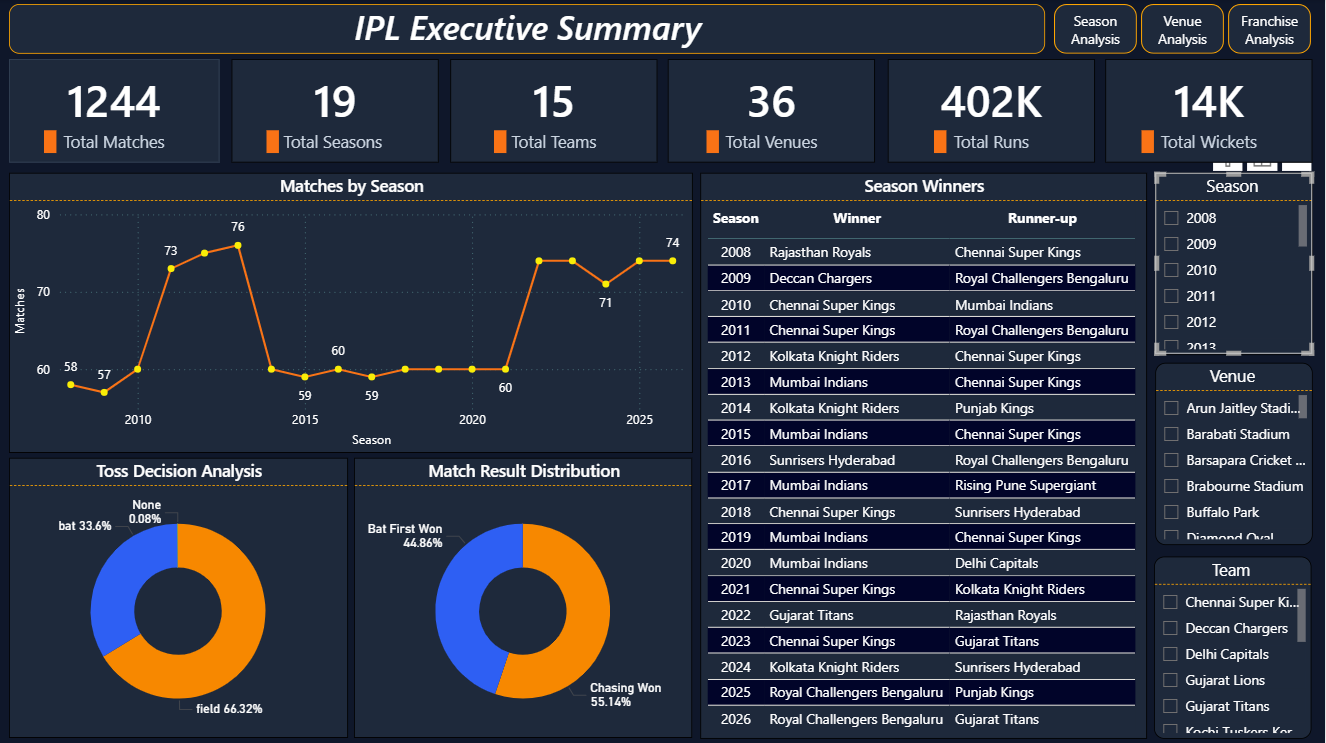

What the dashboard file says about the page in this screenshot:
{"tool":"powerbi","page":{"name":"Overview","canvas":[1280,720],"ordinal":0},"visuals":[{"type":"lineChart","title":"Matches by Season","fields":{"Category":["ipl_data.season"],"Y":["CountNonNull(ipl_data.match_id)"]},"box":[9.6,167.4,660,270.3],"z":0},{"type":"tableEx","title":"Season Winners ","fields":{"Values":["dim_season_stats.season","dim_season_stats.season_winner","dim_season_stats.runner-up"]},"box":[676.5,167.4,430.9,546.1],"z":1000},{"type":"donutChart","title":"Toss Decision Analysis","fields":{"Y":["ipl_data.Total Matches"],"Category":["ipl_data.toss_decision"]},"box":[9.6,443.2,327,270.3],"z":2000},{"type":"donutChart","title":"Match Result Distribution","fields":{"Category":["ipl_data.Result Type"],"Y":["ipl_data.Total Matches"]},"box":[343.1,443.2,326.6,270.3],"z":3000},{"type":"slicer","title":"Season","fields":{"Values":["dim_season_stats.season"]},"box":[1115.6,167.4,152.3,175.6],"z":4000},{"type":"slicer","title":"Venue","fields":{"Values":["ipl_data.venue"]},"box":[1115.6,351,152.3,175.6],"z":5000},{"type":"slicer","title":"Team","fields":{"Values":["team_performance_analysis.team"]},"box":[1115,538,152.3,175.6],"z":6000},{"type":"card","fields":{"Values":["ipl_data.Total Matches"]},"box":[10,58,203,100.2],"z":7000},{"type":"card","fields":{"Values":["ipl_data.Total Seasons"]},"box":[224,58,200.3,100.2],"z":8000},{"type":"card","fields":{"Values":["ipl_data.Total Teams"]},"box":[435,58,200.3,100.2],"z":9000},{"type":"card","fields":{"Values":["ipl_data.Total Venues"]},"box":[646,58,200.3,100.2],"z":10000},{"type":"card","fields":{"Values":["ipl_data.Total Runs"]},"box":[858,58,200.3,100.2],"z":11000},{"type":"card","fields":{"Values":["ipl_data.Total Wickets"]},"box":[1067.6,58,200.3,100.2],"z":12000},{"type":"textbox","title":"IPL Executive Summary","box":[9.7,4.8,1000.1,48.3],"z":13000},{"type":"shape","box":[43.4,127,12.1,22],"z":14000},{"type":"shape","box":[258,127,12.1,22],"z":15000},{"type":"shape","box":[478,127,12.1,22],"z":16000},{"type":"shape","box":[683,127,12.1,22],"z":17000},{"type":"shape","box":[902,127,12.1,22],"z":18000},{"type":"shape","box":[1103,127,12.1,22],"z":19000},{"type":"pageNavigator","box":[1018.2,4.8,249.7,48.3],"z":20000}]}

Visuals, with their boxes in screenshot pixels (x1, y1, x2, y2), scaled from the page's 1280x720 canvas onto the 1326x743 screenshot:
"Matches by Season" lineChart: {"left": 10, "top": 173, "right": 694, "bottom": 452}
"Season Winners " tableEx: {"left": 701, "top": 173, "right": 1147, "bottom": 736}
"Toss Decision Analysis" donutChart: {"left": 10, "top": 457, "right": 349, "bottom": 736}
"Match Result Distribution" donutChart: {"left": 355, "top": 457, "right": 694, "bottom": 736}
"Season" slicer: {"left": 1156, "top": 173, "right": 1313, "bottom": 354}
"Venue" slicer: {"left": 1156, "top": 362, "right": 1313, "bottom": 543}
"Team" slicer: {"left": 1155, "top": 555, "right": 1313, "bottom": 736}
card - ipl_data.Total Matches: {"left": 10, "top": 60, "right": 221, "bottom": 163}
card - ipl_data.Total Seasons: {"left": 232, "top": 60, "right": 440, "bottom": 163}
card - ipl_data.Total Teams: {"left": 451, "top": 60, "right": 658, "bottom": 163}
card - ipl_data.Total Venues: {"left": 669, "top": 60, "right": 877, "bottom": 163}
card - ipl_data.Total Runs: {"left": 889, "top": 60, "right": 1096, "bottom": 163}
card - ipl_data.Total Wickets: {"left": 1106, "top": 60, "right": 1313, "bottom": 163}
"IPL Executive Summary" textbox: {"left": 10, "top": 5, "right": 1046, "bottom": 55}
shape: {"left": 45, "top": 131, "right": 57, "bottom": 154}
shape: {"left": 267, "top": 131, "right": 280, "bottom": 154}
shape: {"left": 495, "top": 131, "right": 508, "bottom": 154}
shape: {"left": 708, "top": 131, "right": 720, "bottom": 154}
shape: {"left": 934, "top": 131, "right": 947, "bottom": 154}
shape: {"left": 1143, "top": 131, "right": 1155, "bottom": 154}
pageNavigator: {"left": 1055, "top": 5, "right": 1313, "bottom": 55}
